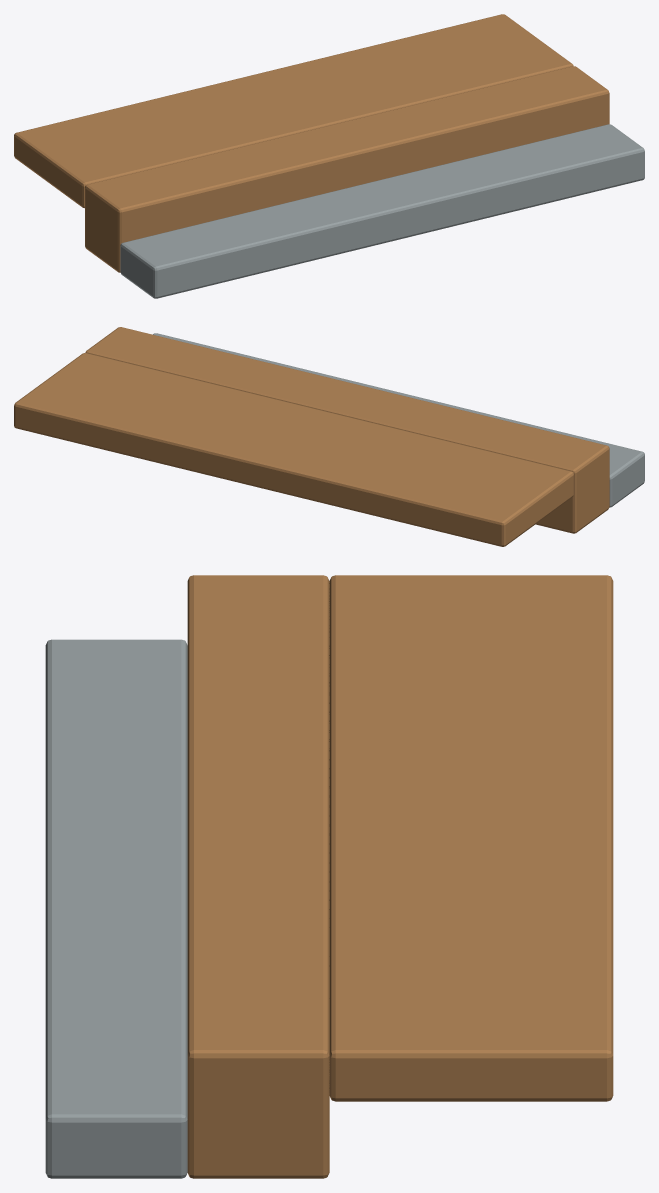
The model's file is porch_4x2x0p5.glb.
3 views of the same model, one above another, from view 1: azimuth 30°, elevation 25°; view 2: azimuth 150°, elevation 25°; view 3: azimuth 270°, elevation 25° (orthographic). The views are drawn at different scales.
Visible parts, largest first — view 1: porch_deck, porch_upper_step, porch_lower_step; view 2: porch_deck, porch_upper_step, porch_lower_step; view 3: porch_deck, porch_upper_step, porch_lower_step.
Part boxes in pixels (x1,y1,x2,y2): porch_deck: [14, 14, 573, 208]; porch_upper_step: [85, 66, 609, 272]; porch_lower_step: [120, 124, 644, 298]; porch_deck: [14, 353, 573, 546]; porch_upper_step: [85, 327, 609, 533]; porch_lower_step: [153, 333, 644, 507]; porch_deck: [329, 575, 613, 1101]; porch_upper_step: [187, 575, 329, 1178]; porch_lower_step: [45, 639, 187, 1178].
Size of the model in its own units: 4 by 0.5 by 2.
